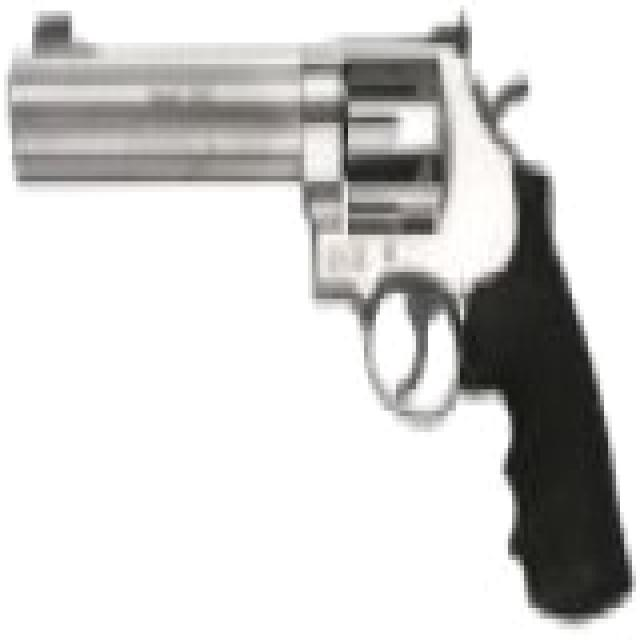pistol: (24, 16, 628, 603)
